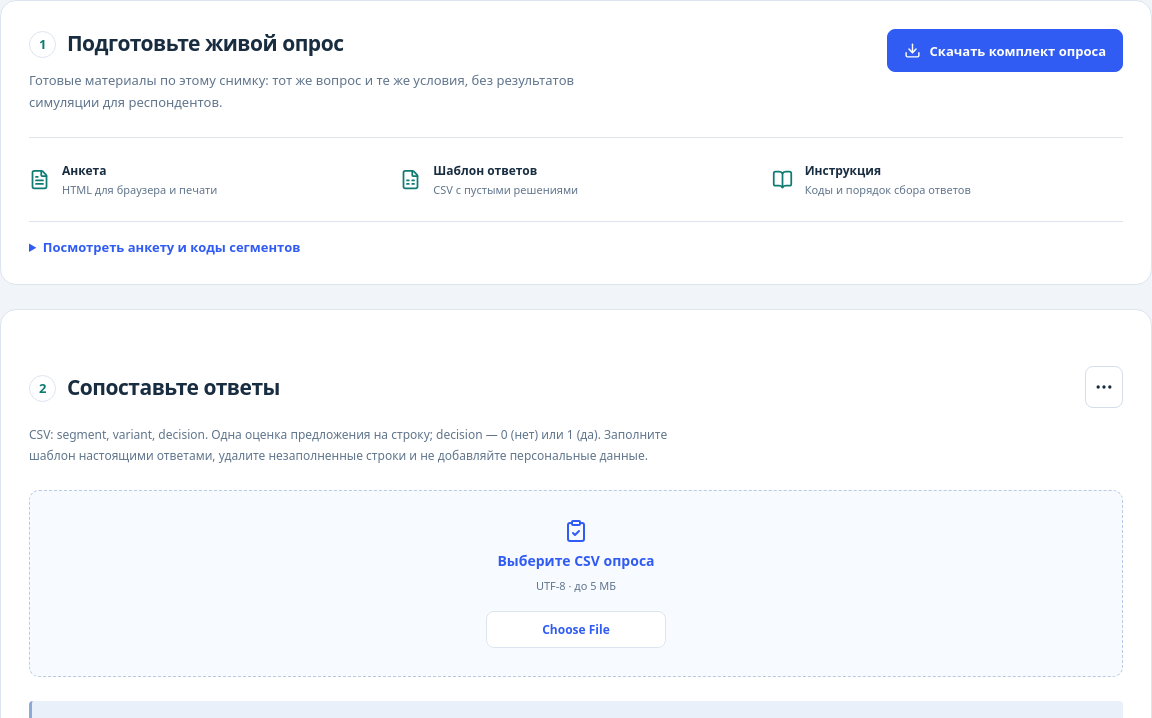
Test case: keeps the questionnaire neutral and uses the actual saved question and offers
Click the heading "Посмотреть анкету и коды сегментов".
click(172, 247)  # box [43,238,300,256]
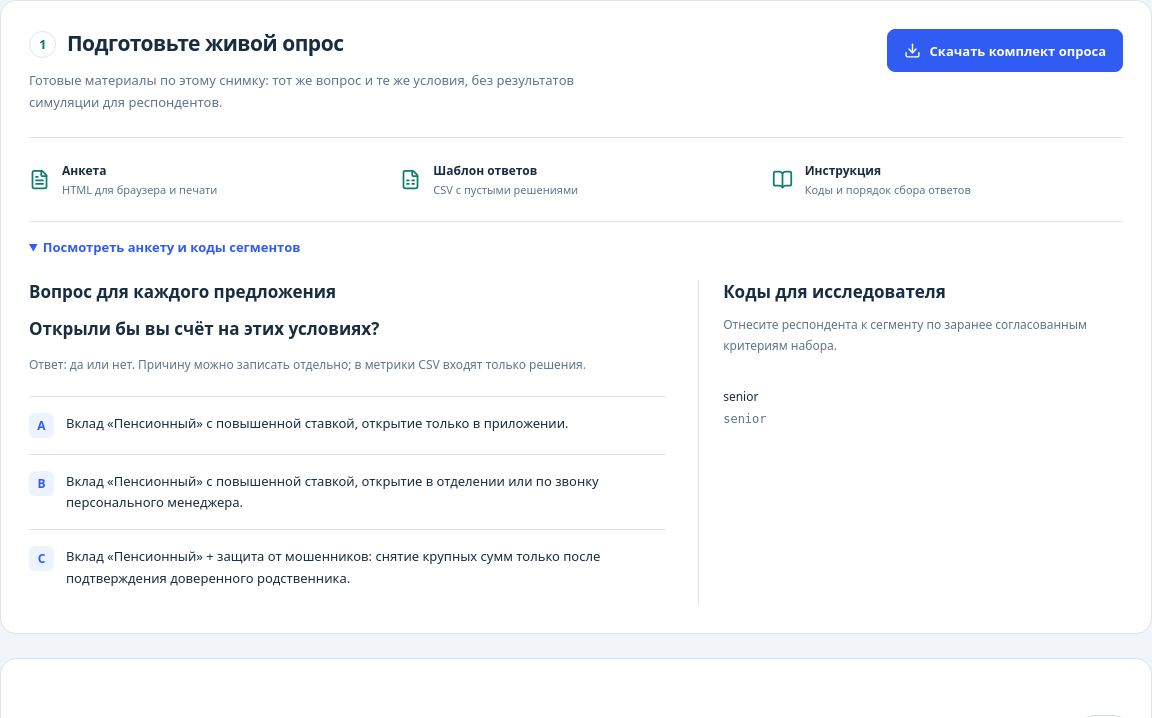
Expected: the text "Открыли бы вы счёт на этих условиях?" is shown, [29,317,379,340]
Expected: the text "Вклад «Пенсионный» с повышенной ставкой, открытие только в приложении." is shown, [66,413,568,434]
Expected: the text "Вклад «Пенсионный» с повышенной ставкой, открытие в отделении или по звонку персонального менеджера." is shown, [66,472,602,511]
